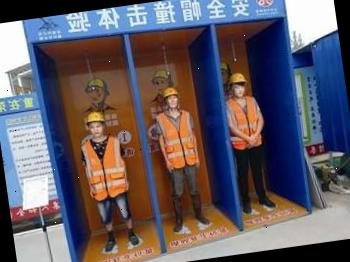helmet: (226, 70, 249, 87), (87, 110, 105, 126), (160, 85, 178, 98)
wear: (80, 136, 128, 198), (156, 108, 200, 171), (224, 93, 264, 152)
